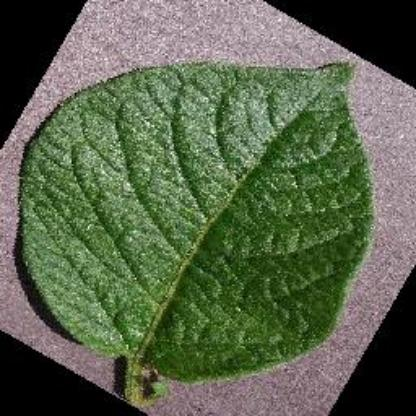Healthy-plant: (20, 37, 382, 401)
